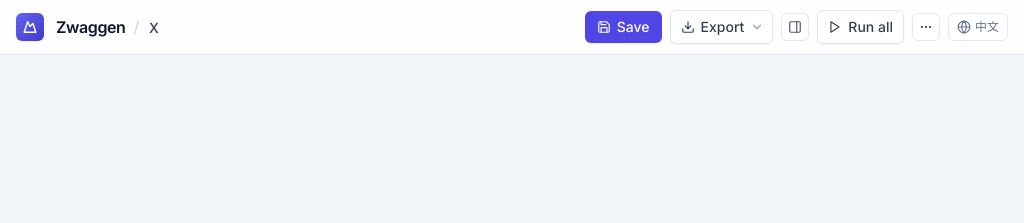
Test: overflow menu groups secondary actions and uses Tailwind responsive classes
Check: the button "Save" is shown, box [585,11,662,43]
Check: the button "Run all" is shown, box [817,10,904,44]
# Secondary actions are mirrored inside the overflow menu
Click the button named "more" at (926, 27), box [912,13,940,41]
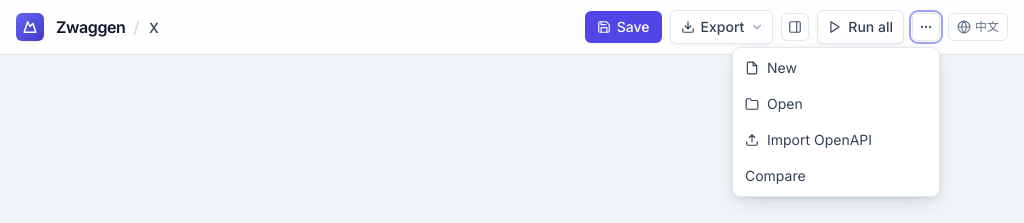
Check: the menu shows "Import OpenAPI", box [737,124,935,156]
Check: the menu shows "Compare", box [737,160,935,192]
Check: the menu shows "New"
# Trigger "New" from the overflow menu and verify its handler fires
Click the menu item "New" at (836, 68), box [737,52,935,84]
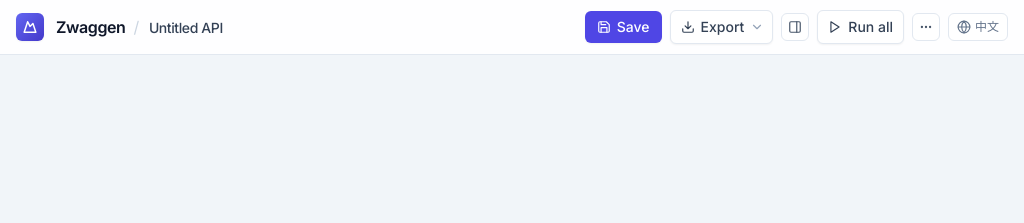
Check: the button "Untitled API" is shown, box [147,18,225,38]
